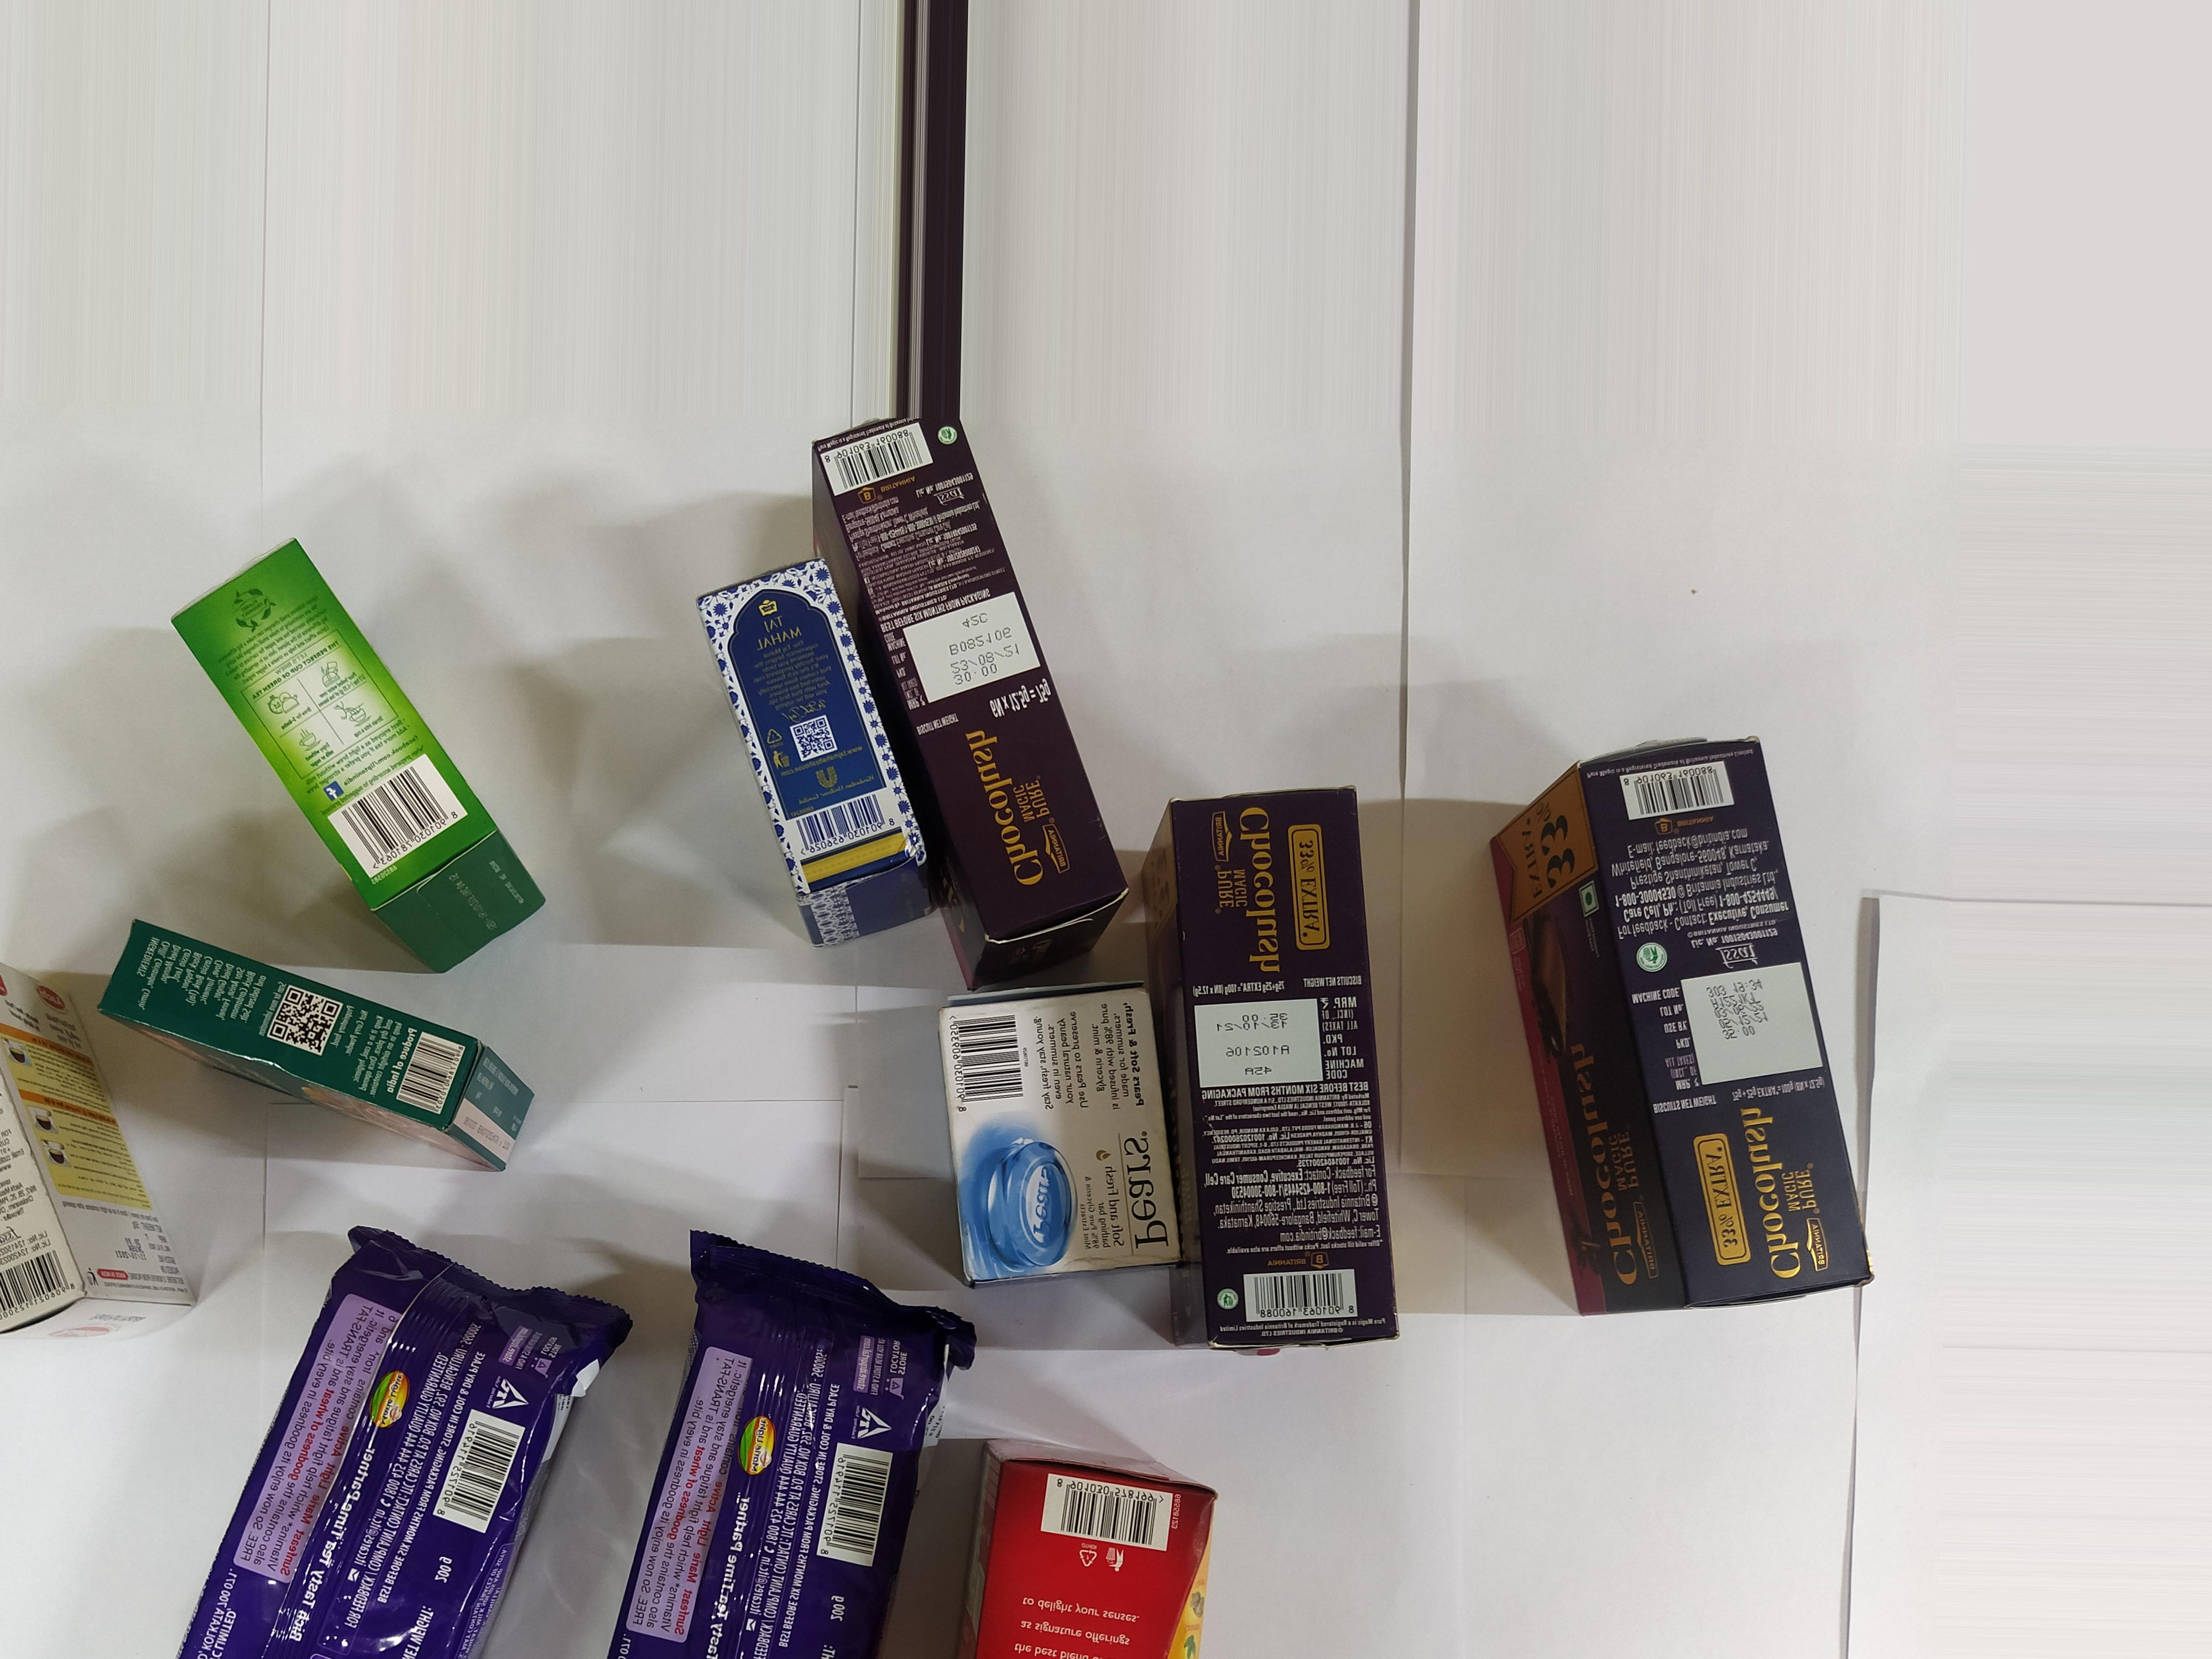Bar_code: (808, 1425, 900, 1605), (1038, 1460, 1191, 1563), (333, 765, 481, 871), (437, 1405, 529, 1561), (946, 1019, 1042, 1133), (1611, 760, 1756, 831), (390, 1019, 481, 1122), (812, 437, 961, 498), (1233, 1274, 1364, 1338), (791, 793, 897, 850), (5, 1243, 75, 1321)
Item: (1487, 721, 1907, 1406), (155, 518, 651, 978), (805, 410, 1155, 958), (1134, 793, 1435, 1401), (207, 1218, 599, 1659), (85, 910, 577, 1229), (641, 1222, 944, 1659), (678, 551, 951, 964), (928, 974, 1198, 1286), (3, 941, 176, 1368), (960, 1427, 1254, 1659)
QR_code: (263, 979, 343, 1060), (789, 714, 848, 762)
